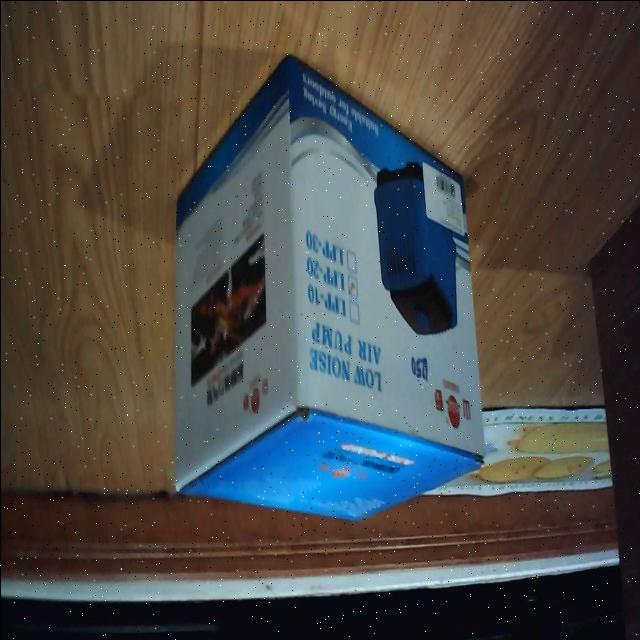YAMANO_LPP_20: (156, 37, 494, 543)
